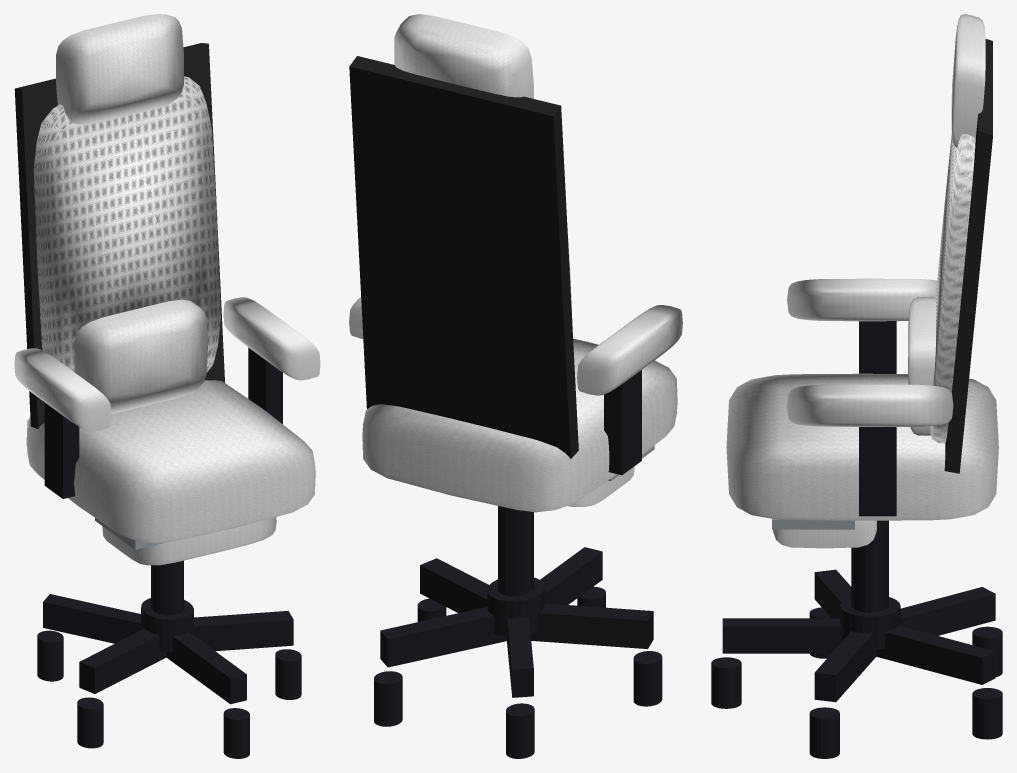
3 renders of one model, left to right at view 1: azimuth 30°, elevation 25°; view 2: azimuth 150°, elevation 25°; view 3: azimuth 270°, elevation 25°, orthographic. The views are drawn at different scales.
Parts seen in each view (by area): view 1: 4 backrest, 1 seat, 7 lumbar_pillow, 6 headrest, 5 backrest_frame, 10 armrest_right, 8 armrest_left, 15 base_spoke_2, 2 footrest, 17 base_spoke_4, 18 base_spoke_5, 14 base_spoke_1 (+8 smaller); view 2: 5 backrest_frame, 1 seat, 6 headrest, 8 armrest_left, 18 base_spoke_5, 16 base_spoke_3, 9 armrest_support_left, 12 gas_lift, 15 base_spoke_2, 14 base_spoke_1, 13 base_hub, 17 base_spoke_4 (+4 smaller); view 3: 1 seat, 10 armrest_right, 5 backrest_frame, 4 backrest, 8 armrest_left, 14 base_spoke_1, 16 base_spoke_3, 6 headrest, 11 armrest_support_right, 17 base_spoke_4, 12 gas_lift, 15 base_spoke_2 (+10 smaller).
Part boxes in pixels (x1,y1,x2,y2): 4 backrest: (33,76,220,372); 1 seat: (26,380,315,543); 7 lumbar_pillow: (74,299,207,413); 6 headrest: (56,14,183,124); 5 backrest_frame: (14,43,224,428); 10 armrest_right: (223,297,320,380); 8 armrest_left: (14,348,111,431); 15 base_spoke_2: (193,611,293,651); 2 footrest: (102,517,276,565); 17 base_spoke_4: (43,594,141,643); 18 base_spoke_5: (79,628,166,693); 14 base_spoke_1: (166,632,246,704); 5 backrest_frame: (349,56,578,458); 1 seat: (362,338,677,512); 6 headrest: (394,14,533,98); 8 armrest_left: (577,305,682,395); 18 base_spoke_5: (530,603,653,648); 16 base_spoke_3: (380,607,506,667); 9 armrest_support_left: (604,370,641,475); 12 gas_lift: (498,506,533,596); 15 base_spoke_2: (420,558,488,612); 14 base_spoke_1: (540,547,602,604); 13 base_hub: (487,577,544,636); 17 base_spoke_4: (507,617,533,697); 1 seat: (726,373,998,520); 10 armrest_right: (787,384,953,426); 5 backrest_frame: (944,39,992,473); 4 backrest: (930,133,975,443); 8 armrest_left: (787,278,936,321); 14 base_spoke_1: (722,618,842,653); 16 base_spoke_3: (876,625,995,684); 6 headrest: (951,14,985,147); 11 armrest_support_right: (859,427,896,516); 17 base_spoke_4: (900,587,995,635); 12 gas_lift: (851,520,888,612); 15 base_spoke_2: (814,631,876,702).
Bounding box in the file's own units: 0.5151 × 1.34 × 0.5301.
7 materials, 3 textured.
